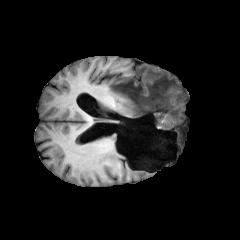glioma: (109, 65, 185, 127)
